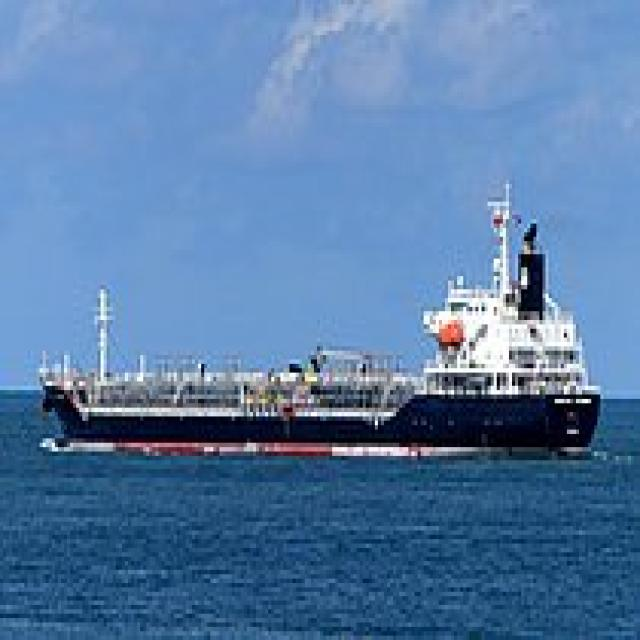Tanker: (31, 171, 606, 456)
